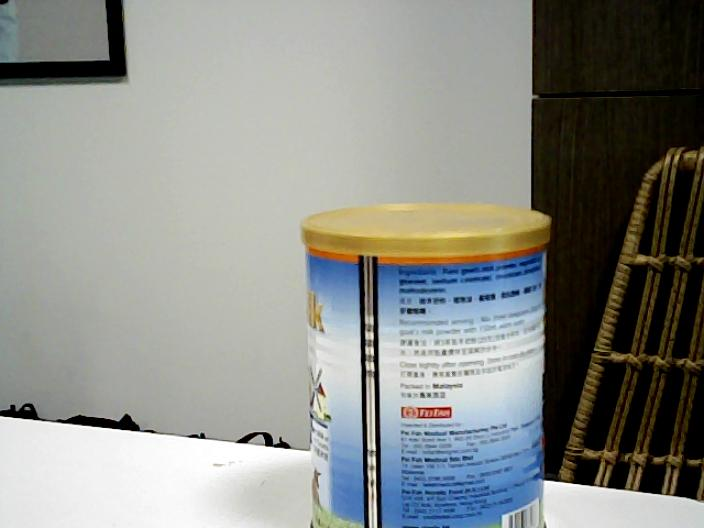Babymilk-powder_400-499g_Halal_NonHealthy: (309, 204, 547, 528)
